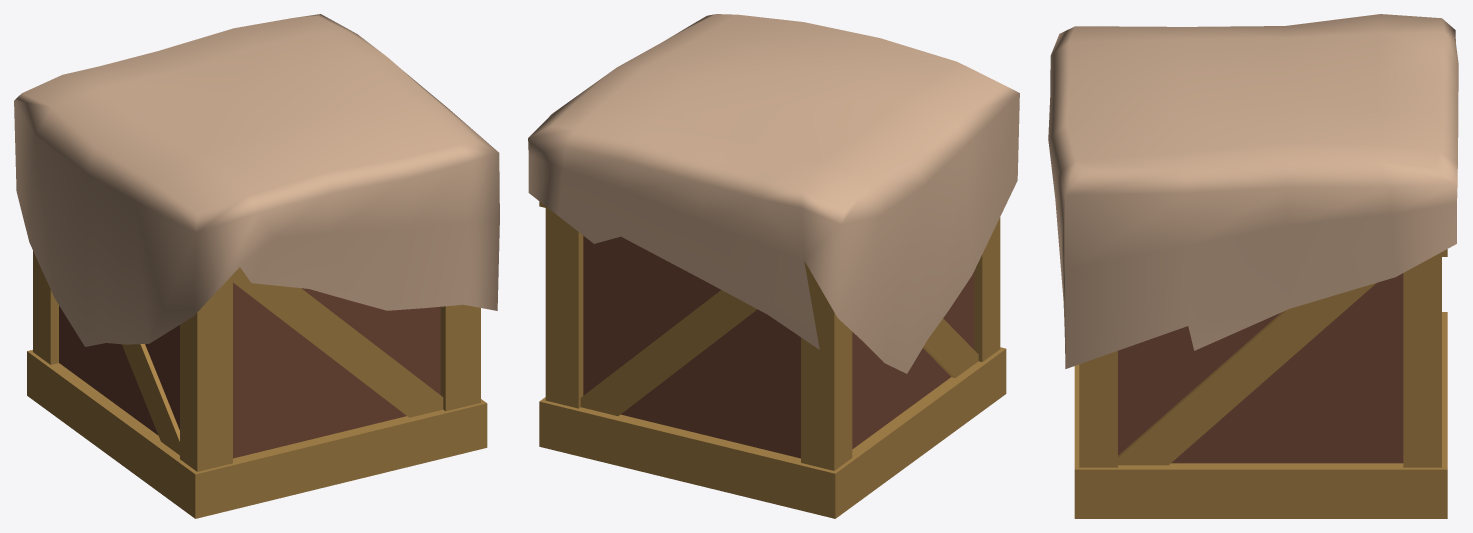
3 views of the same model, side by side, from view 1: azimuth 30°, elevation 25°; view 2: azimuth 150°, elevation 25°; view 3: azimuth 270°, elevation 25° (orthographic). The views are drawn at different scales.
Visible parts, largest first — view 1: BR_BOX_02; view 2: BR_BOX_02; view 3: BR_BOX_02.
Boxes of the visible parts, x1=… form: BR_BOX_02: x1=14, y1=14, x2=499, y2=518; BR_BOX_02: x1=528, y1=14, x2=1019, y2=518; BR_BOX_02: x1=1048, y1=14, x2=1458, y2=518.
Size of the model in its own units: 207 by 203 by 205.
